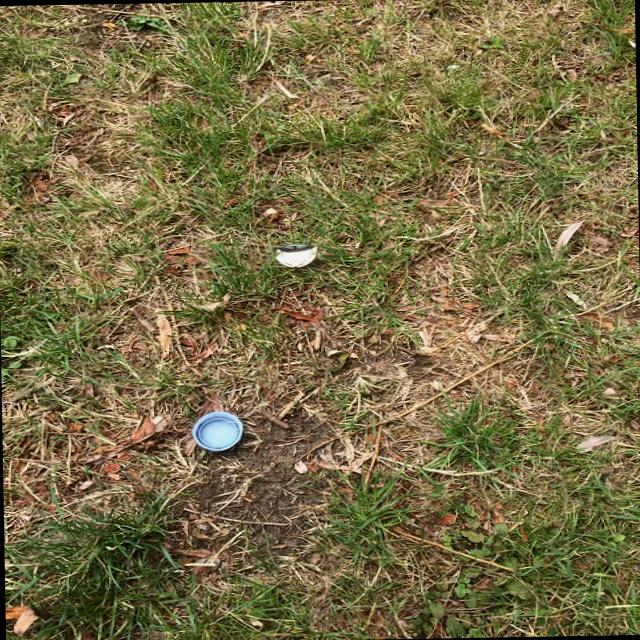Trash: (192, 412, 246, 452), (274, 234, 320, 273)
